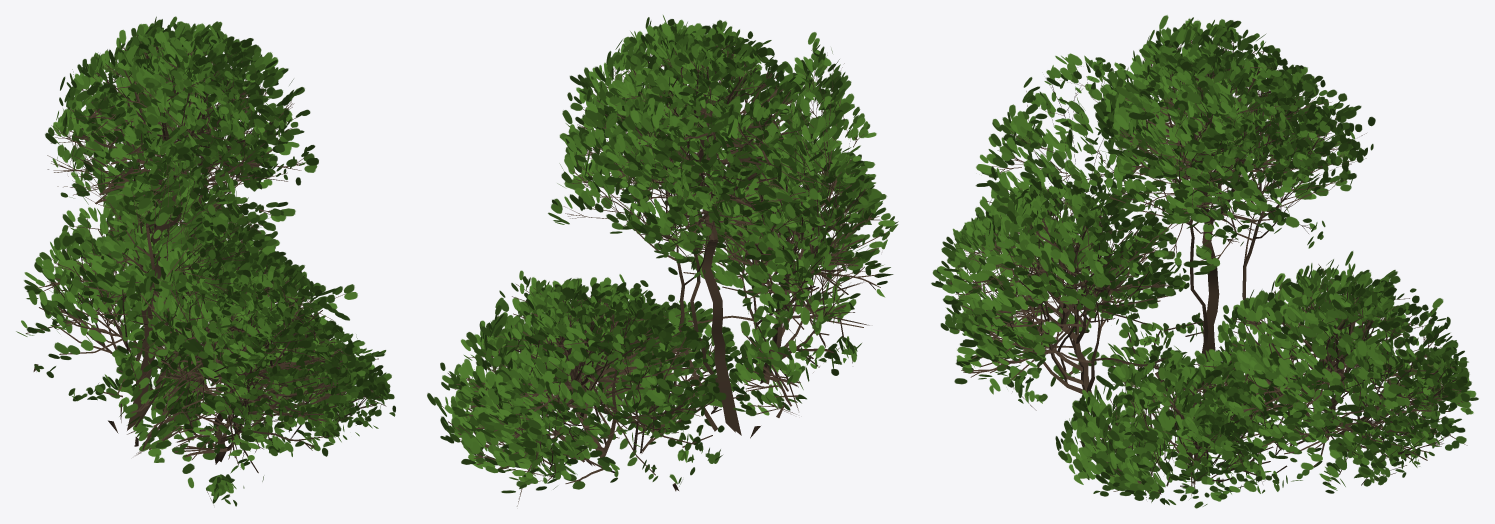
The picture shows the model from 3 angles, left to right: view 1: azimuth 30°, elevation 25°; view 2: azimuth 150°, elevation 25°; view 3: azimuth 270°, elevation 25°; orthographic projection.
Parts seen in each view (by area): view 1: oak 01.001_trunk_Mat.001_0.353; view 2: oak 01.001_trunk_Mat.001_0.353; view 3: oak 01.001_trunk_Mat.001_0.353.
Boxes of the visible parts, box(x1,y1,x2,y2) form: oak 01.001_trunk_Mat.001_0.353: box(16, 16, 395, 506); oak 01.001_trunk_Mat.001_0.353: box(427, 15, 898, 506); oak 01.001_trunk_Mat.001_0.353: box(931, 15, 1478, 508).
Size of the model in its own units: 3.49 by 4.69 by 5.71.
Materials: 2 (1 with a texture image).
